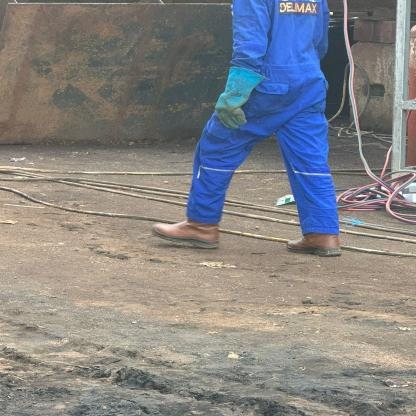bota: (282, 227, 343, 258)
